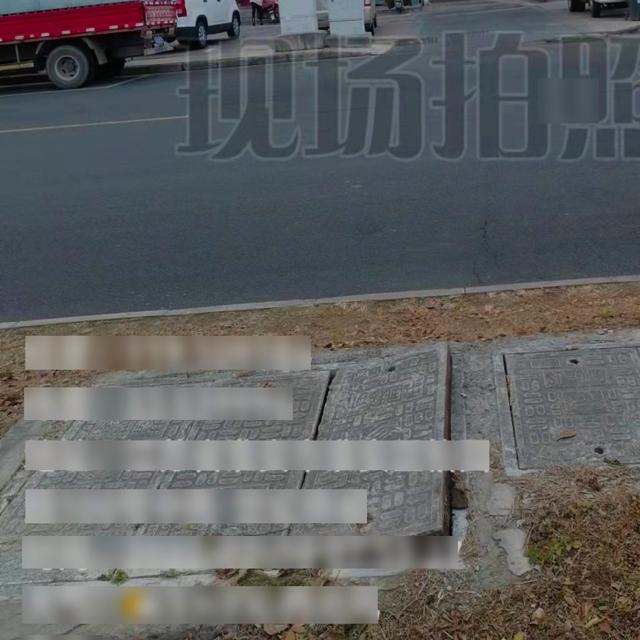good: (492, 327, 640, 488)
uncovered: (6, 346, 461, 598)
